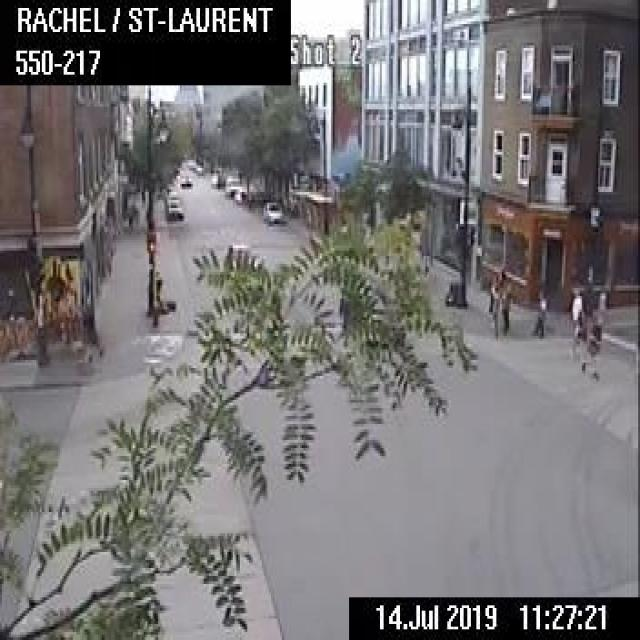pedestrian: (580, 308, 606, 377), (564, 282, 582, 354), (529, 283, 546, 333), (488, 275, 500, 336), (499, 277, 512, 333)
vehicle: (263, 198, 284, 222), (164, 196, 182, 217), (178, 168, 191, 184)
